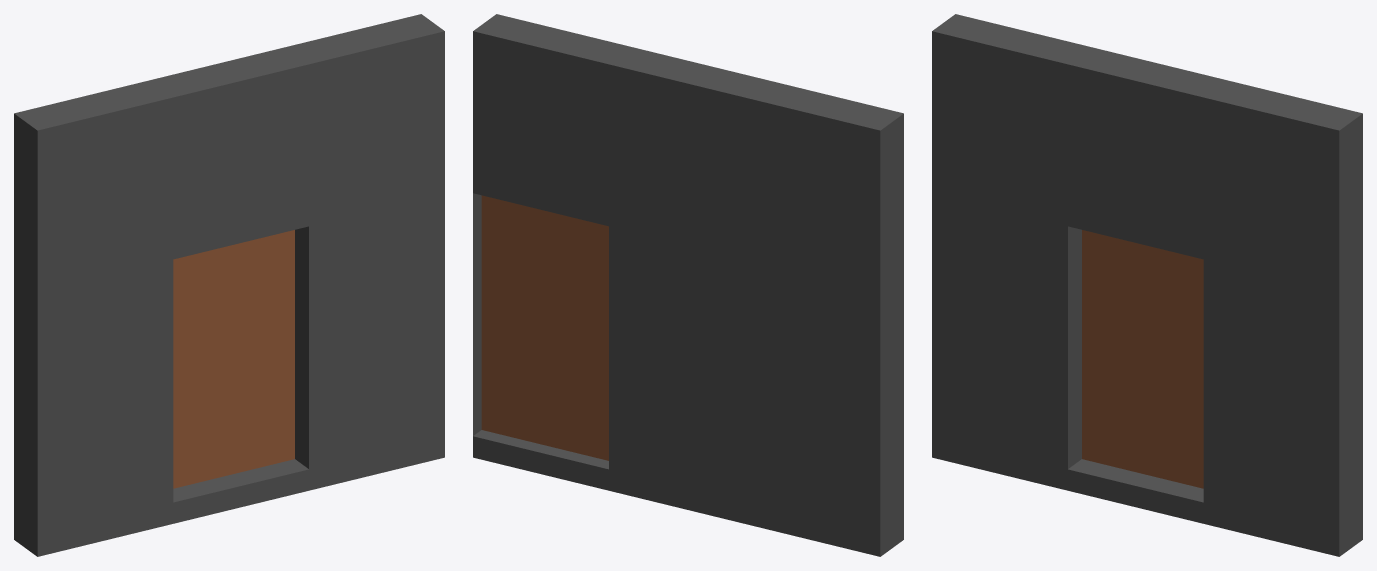
File: Easter_egg_wall.fbx
3 views of the same model, side by side, from view 1: azimuth 30°, elevation 25°; view 2: azimuth 150°, elevation 25°; view 3: azimuth 330°, elevation 25° (orthographic).
Visible parts, largest first — view 1: Wall_Stone.002; view 2: Wall_Stone.002; view 3: Wall_Stone.002.
Part boxes in pixels (<box>): Wall_Stone.002: <box>14,14,444,556</box>; Wall_Stone.002: <box>473,14,903,556</box>; Wall_Stone.002: <box>932,14,1362,556</box>.
Size of the model in its own units: 400 by 400 by 40.
